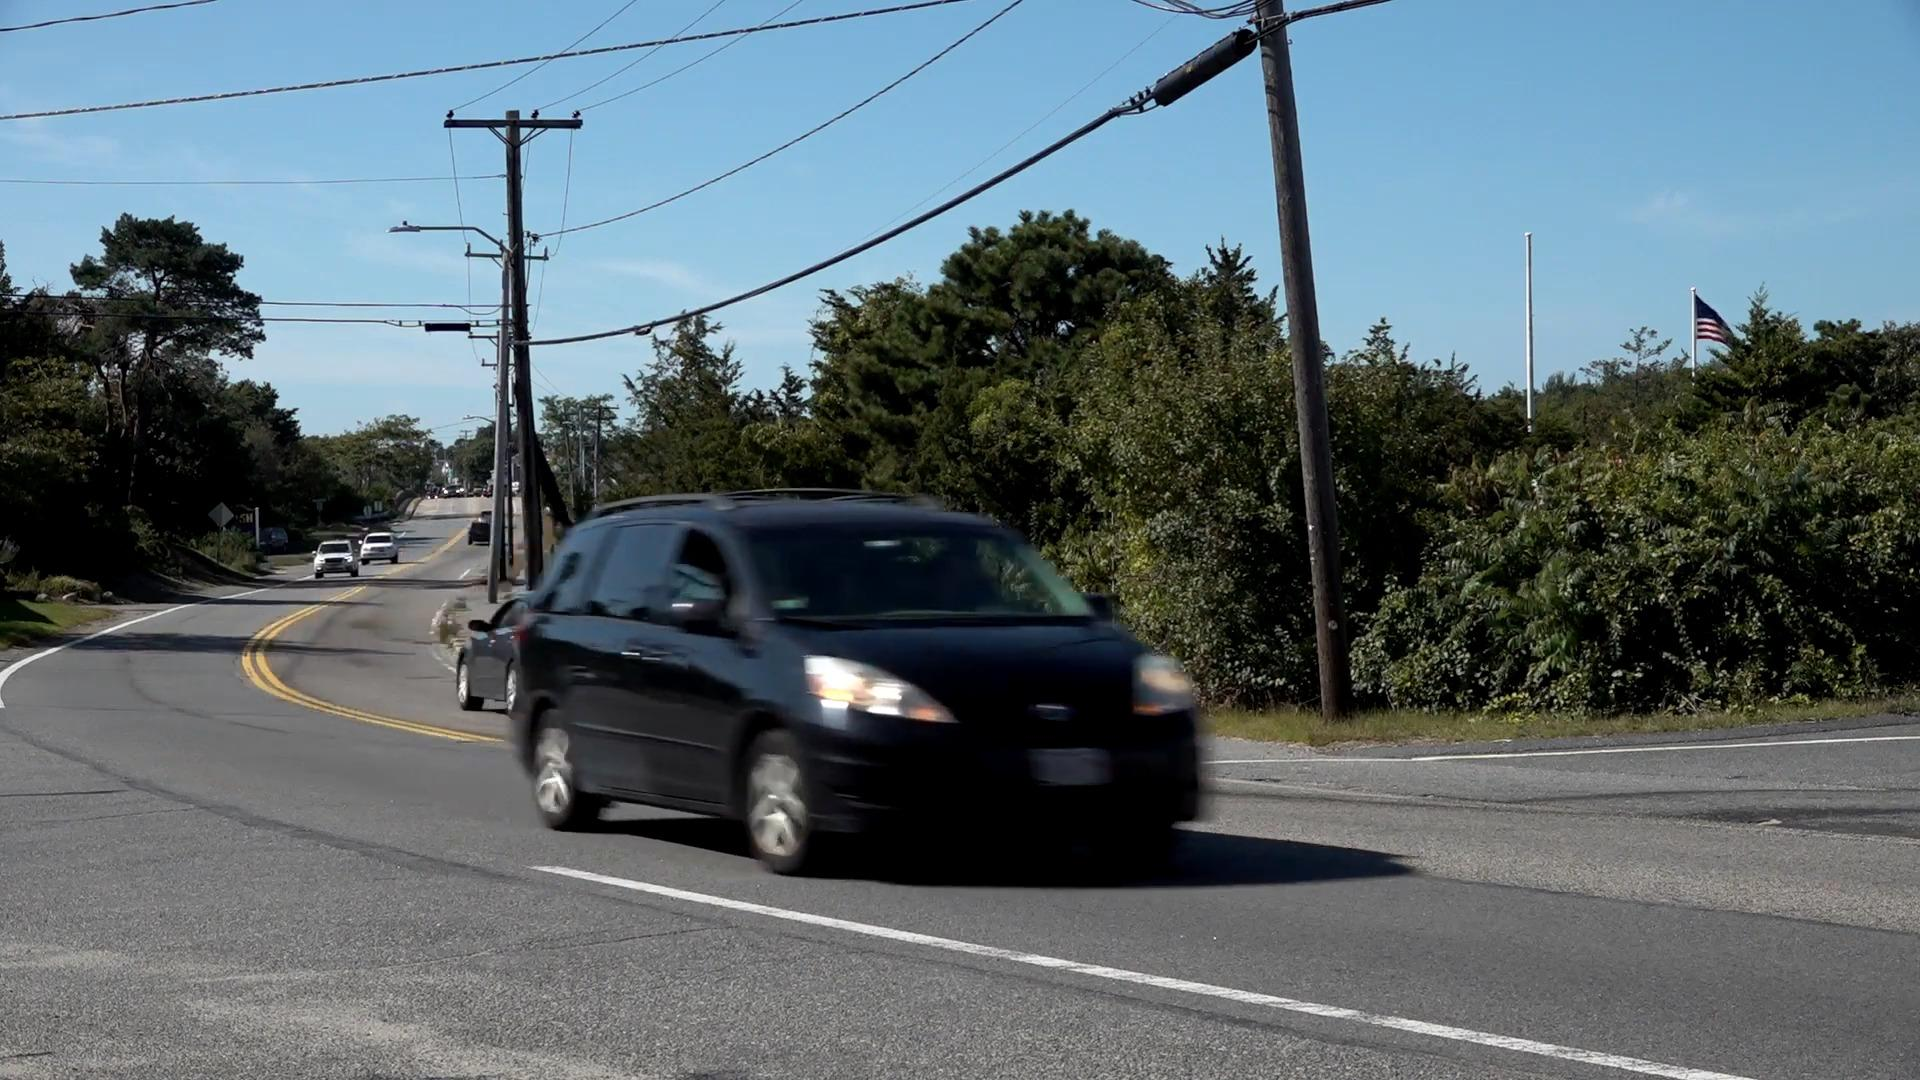minivan: (514, 489, 1207, 878)
